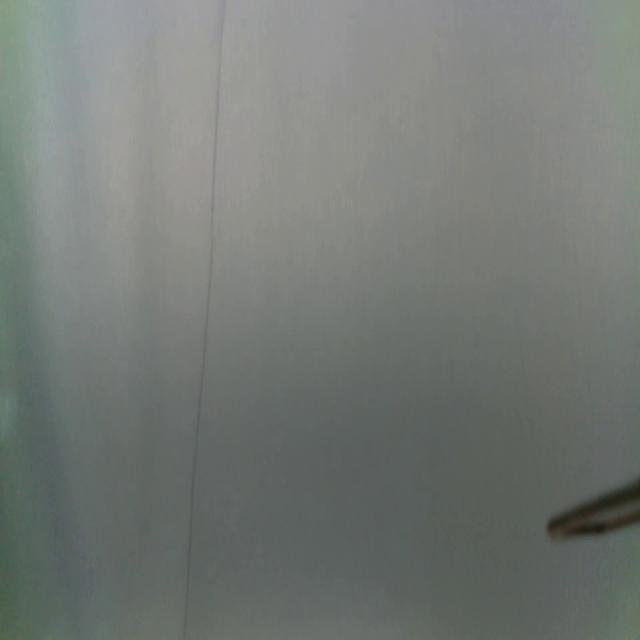crease: (178, 1, 228, 638)
